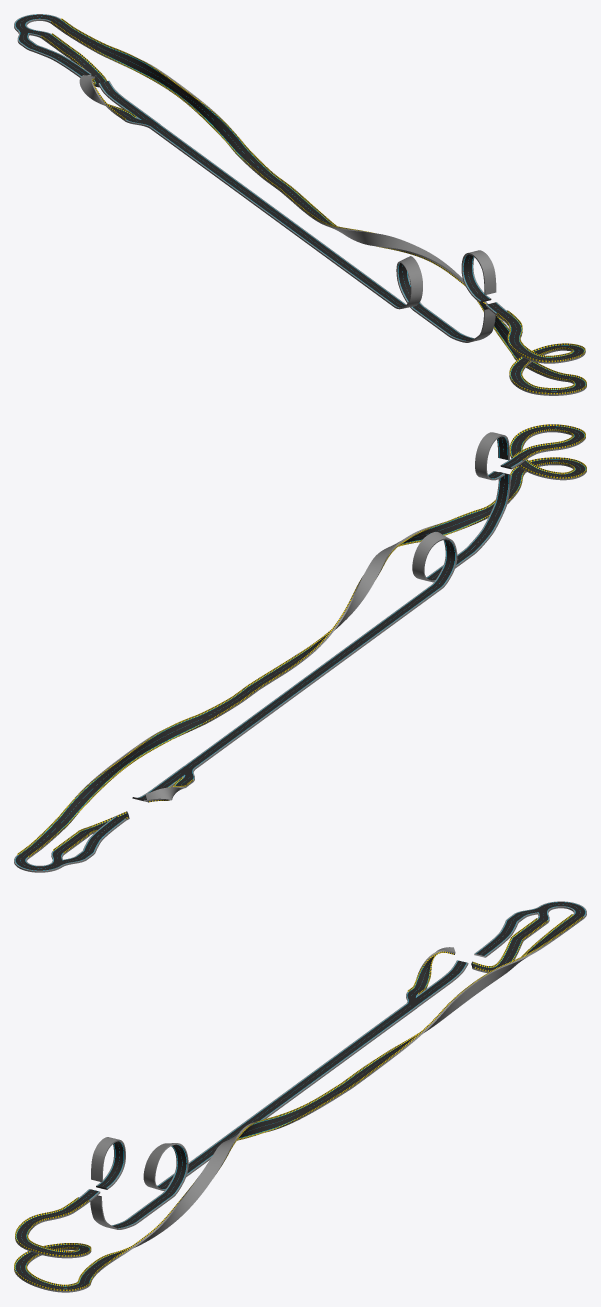
The model's file is Gravity Track Test 3.fbx.
3 renders of one model, top to bottom at view 1: azimuth 30°, elevation 25°; view 2: azimuth 150°, elevation 25°; view 3: azimuth 330°, elevation 25°, orthographic.
Parts seen in each view (by area): view 1: Track Example .031, Track Example .035, Track Example .029, Straight Ahead Wall.067, Track Example .032, Straight Ahead Wall.066, Track Example .028, Track Example .027, Track Example .034, Track Example .030, Track Example .026; view 2: Track Example .035, Track Example .031, Track Example .029, Straight Ahead Wall.067, Track Example .034, Straight Ahead Wall.066, Track Example .032, Track Example .028; view 3: Track Example .035, Track Example .031, Straight Ahead Wall.067, Track Example .029, Track Example .032, Straight Ahead Wall.066, Track Example .027, Track Example .028, Track Example .034, Track Example .030.
Part boxes in pixels (left/top/right/bottom): Track Example .031: left=149, top=124, right=452, bottom=330; Track Example .035: left=270, top=181, right=586, bottom=395; Track Example .029: left=51, top=20, right=284, bottom=185; Straight Ahead Wall.067: left=272, top=179, right=586, bottom=394; Track Example .032: left=461, top=250, right=496, bottom=302; Straight Ahead Wall.066: left=51, top=18, right=285, bottom=185; Track Example .028: left=19, top=40, right=91, bottom=77; Track Example .027: left=41, top=34, right=105, bottom=87; Track Example .034: left=441, top=308, right=495, bottom=342; Track Example .030: left=98, top=80, right=146, bottom=117; Track Example .026: left=79, top=75, right=134, bottom=121; Track Example .035: left=241, top=426, right=586, bottom=696; Track Example .031: left=184, top=532, right=467, bottom=769; Track Example .029: left=17, top=690, right=251, bottom=858; Straight Ahead Wall.067: left=239, top=424, right=586, bottom=693; Track Example .034: left=457, top=472, right=510, bottom=559; Straight Ahead Wall.066: left=17, top=688, right=254, bottom=856; Track Example .032: left=475, top=432, right=509, bottom=480; Track Example .028: left=76, top=816, right=126, bottom=859; Track Example .035: left=14, top=1078, right=358, bottom=1292; Track Example .031: left=134, top=1003, right=416, bottom=1217; Straight Ahead Wall.067: left=14, top=1076, right=361, bottom=1290; Track Example .029: left=348, top=915, right=583, bottom=1083; Track Example .032: left=91, top=1137, right=125, bottom=1189; Straight Ahead Wall.066: left=348, top=914, right=583, bottom=1081; Track Example .027: left=471, top=919, right=547, bottom=972; Track Example .028: left=474, top=913, right=525, bottom=957; Track Example .034: left=90, top=1195, right=144, bottom=1229; Track Example .030: left=419, top=960, right=468, bottom=998.
Bounding box in the file's own units: 286 × 378 × 3340.
